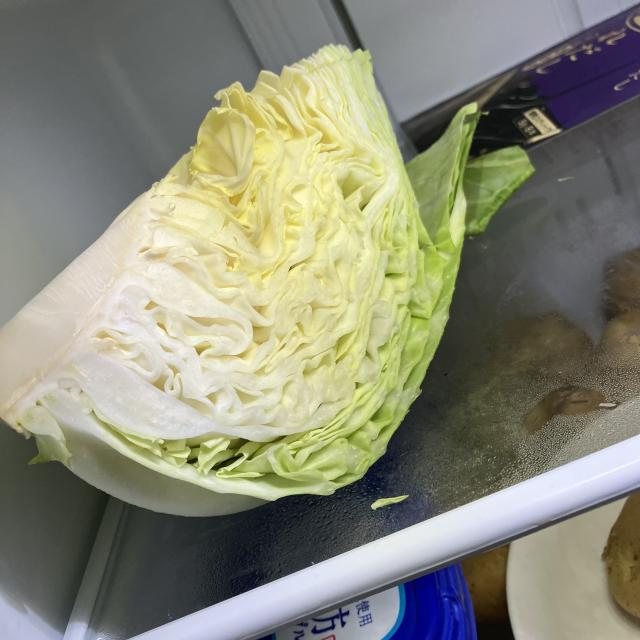cabbage: (0, 41, 534, 524)
